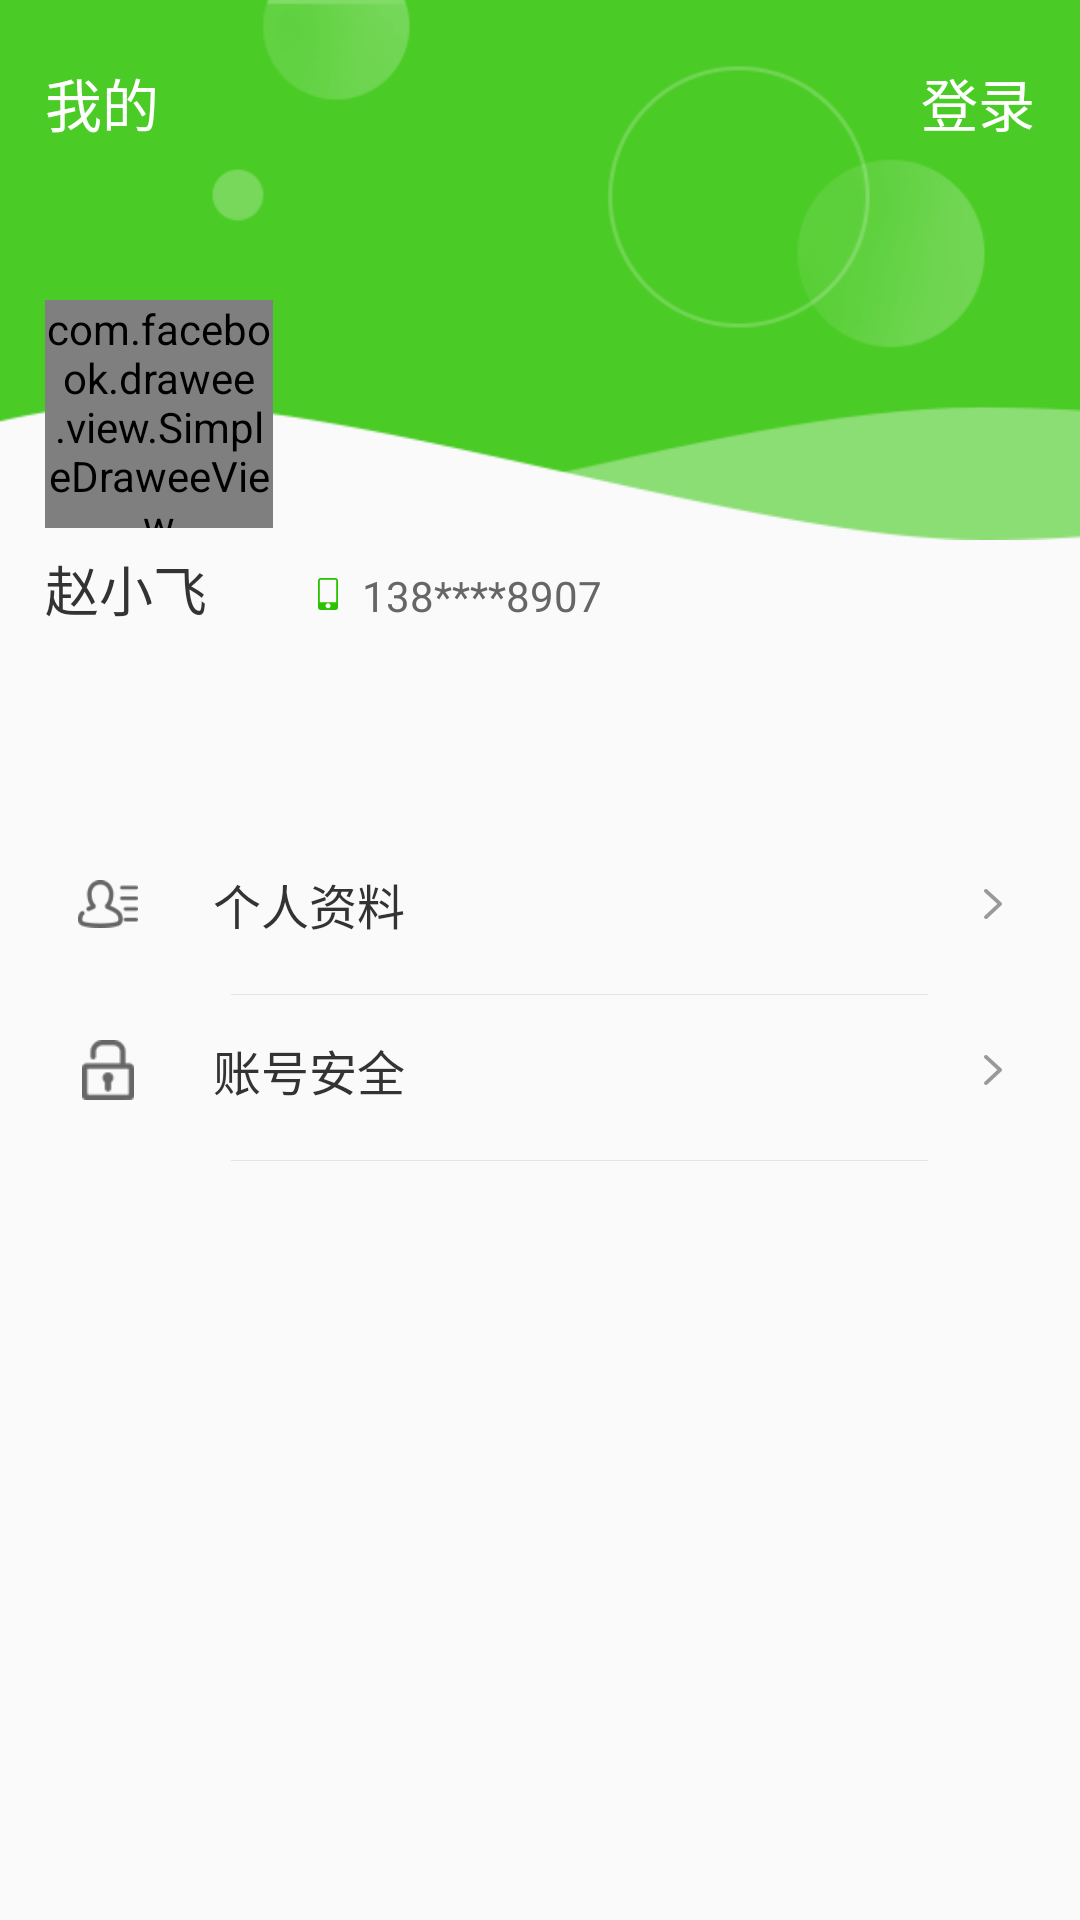

Named icons in this screenshot (1080x1920) and their centers, point (x, y):
change password: point (108, 1070)
mine profile: point (108, 904)
